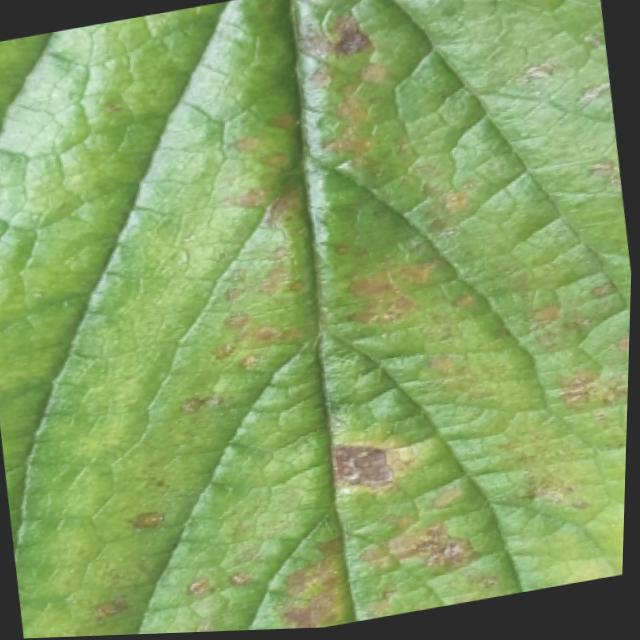Angular Leafspot: (10, 0, 633, 639)
